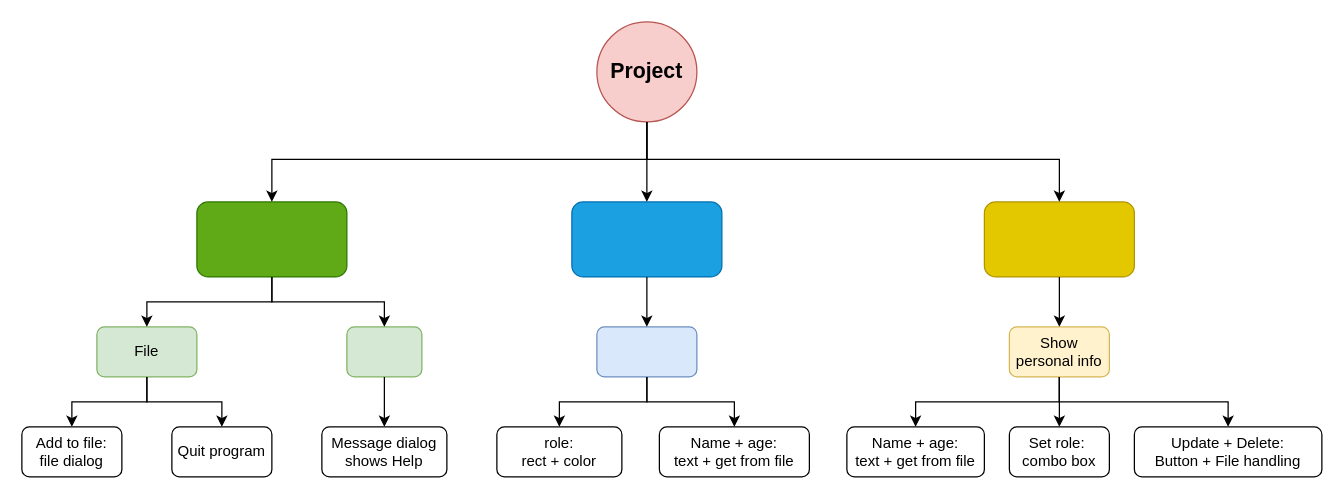
This 1344x499 diagram has some shape labels left out. Each missing label, with the centre of its shape:
"Help" goes at [384,351].
"Info. frame" goes at [1058,239].
"List frame" goes at [646,239].
"Menu Bar" goes at [271,239].
"Show List" goes at [646,351].
